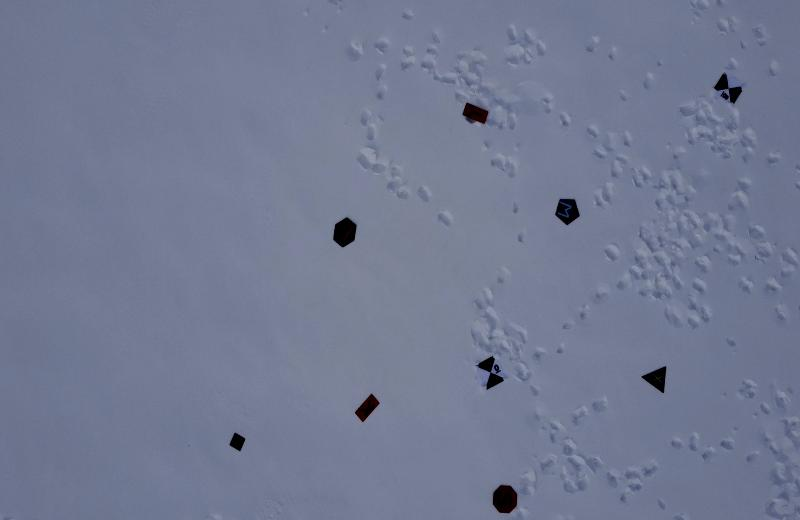Hexagon: (327, 218, 360, 247)
Octagon: (492, 486, 520, 514)
Pentagon: (554, 192, 582, 225)
Rectangle: (352, 393, 386, 425), (462, 99, 488, 131)
Square: (228, 433, 247, 453)
Triangle: (638, 360, 669, 398)
